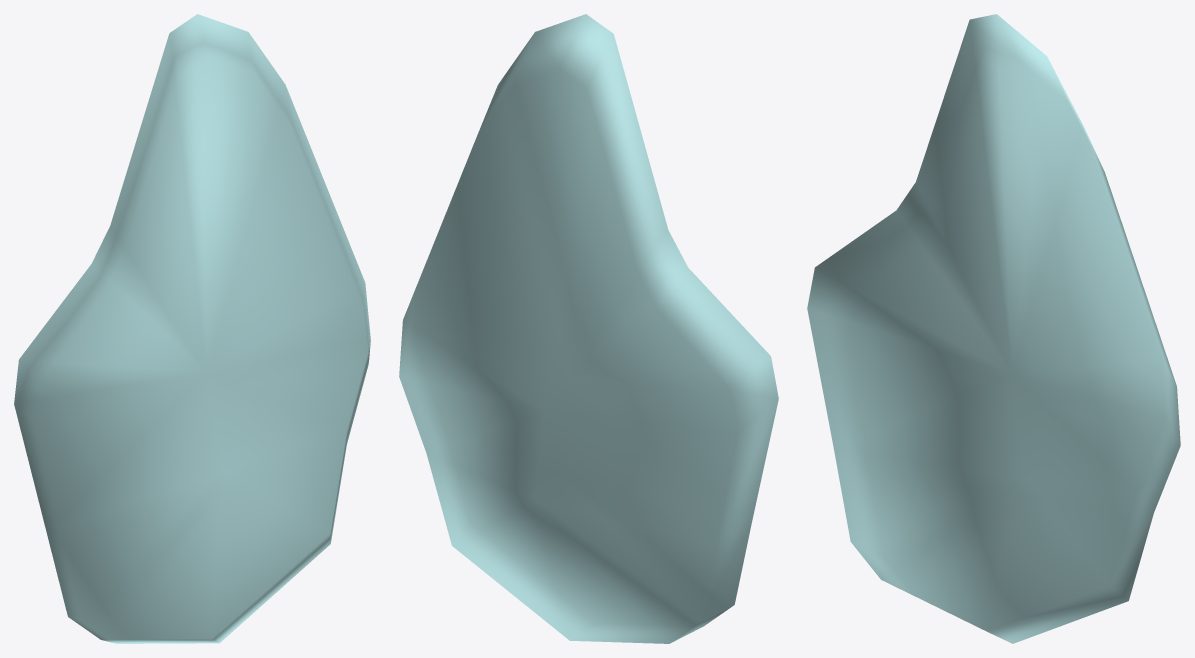
Rendered from Shard_3_R.fbx.
The picture shows the model from 3 angles, left to right: view 1: azimuth 30°, elevation 25°; view 2: azimuth 150°, elevation 25°; view 3: azimuth 330°, elevation 25°; orthographic projection.
Parts seen in each view (by area): view 1: Shard_Rounded_3; view 2: Shard_Rounded_3; view 3: Shard_Rounded_3.
Part boxes in pixels (x1,y1,x2,y2): Shard_Rounded_3: (14,14,370,643); Shard_Rounded_3: (399,14,778,643); Shard_Rounded_3: (807,14,1180,643).
Size of the model in its own units: 649 by 1068 by 72.68.
